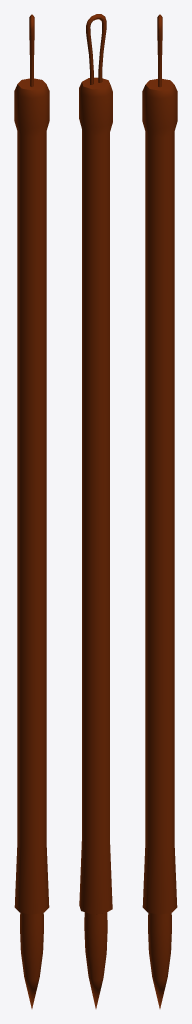
File: brushes02.fbx
3 views of the same model, side by side, from view 1: azimuth 90°, elevation 25°; view 2: azimuth 210°, elevation 25°; view 3: azimuth 270°, elevation 25° (orthographic).
Parts seen in each view (by area): view 1: polySurface68; view 2: polySurface68; view 3: polySurface68.
Part boxes in pixels (x1=…): polySurface68: x1=14, y1=14, x2=49, y2=1008; polySurface68: x1=79, y1=14, x2=112, y2=1008; polySurface68: x1=142, y1=14, x2=177, y2=1008.
Bounding box in the file's own units: 0.2926 × 9.12 × 0.2926.
